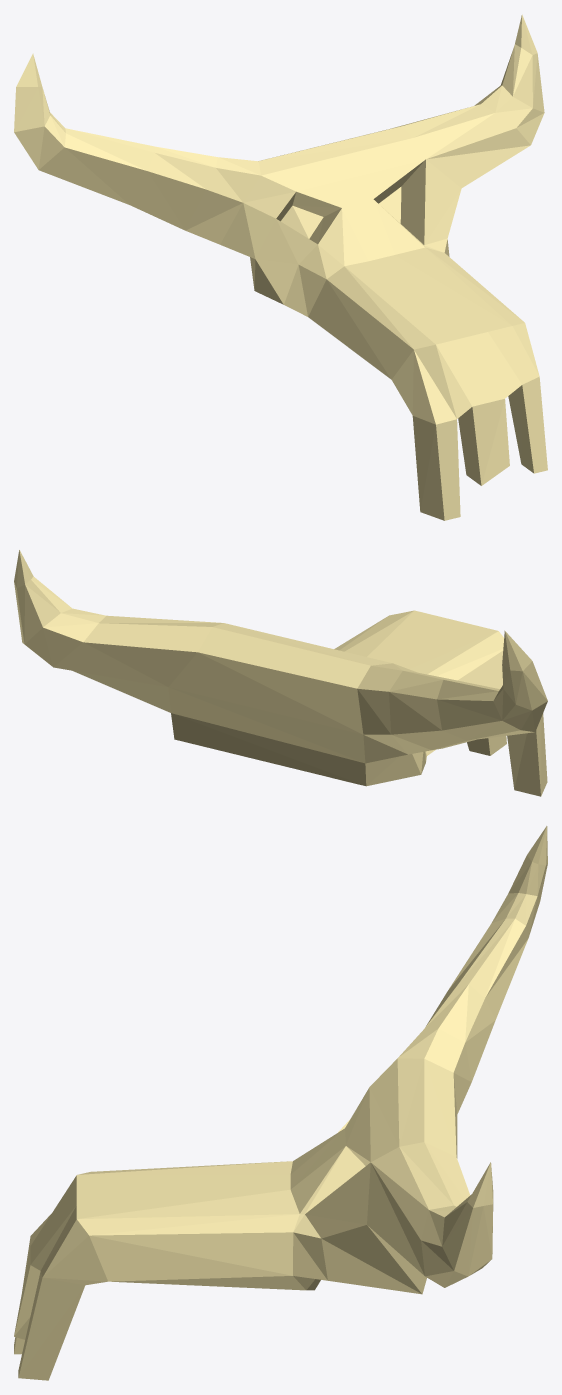
File: Skull01.FBX
3 renders of one model, top to bottom at view 1: azimuth 30°, elevation 25°; view 2: azimuth 150°, elevation 25°; view 3: azimuth 270°, elevation 25°, orthographic. The views are drawn at different scales.
Parts seen in each view (by area): view 1: Skull01; view 2: Skull01; view 3: Skull01.
Part boxes in pixels (box(x1,y1,x2,y2)): Skull01: box(14, 14, 547, 520); Skull01: box(14, 550, 547, 796); Skull01: box(14, 826, 547, 1380).
Bounding box in the file's own units: 2.22 × 1.47 × 1.73.
Materials: 1 (1 with a texture image).
